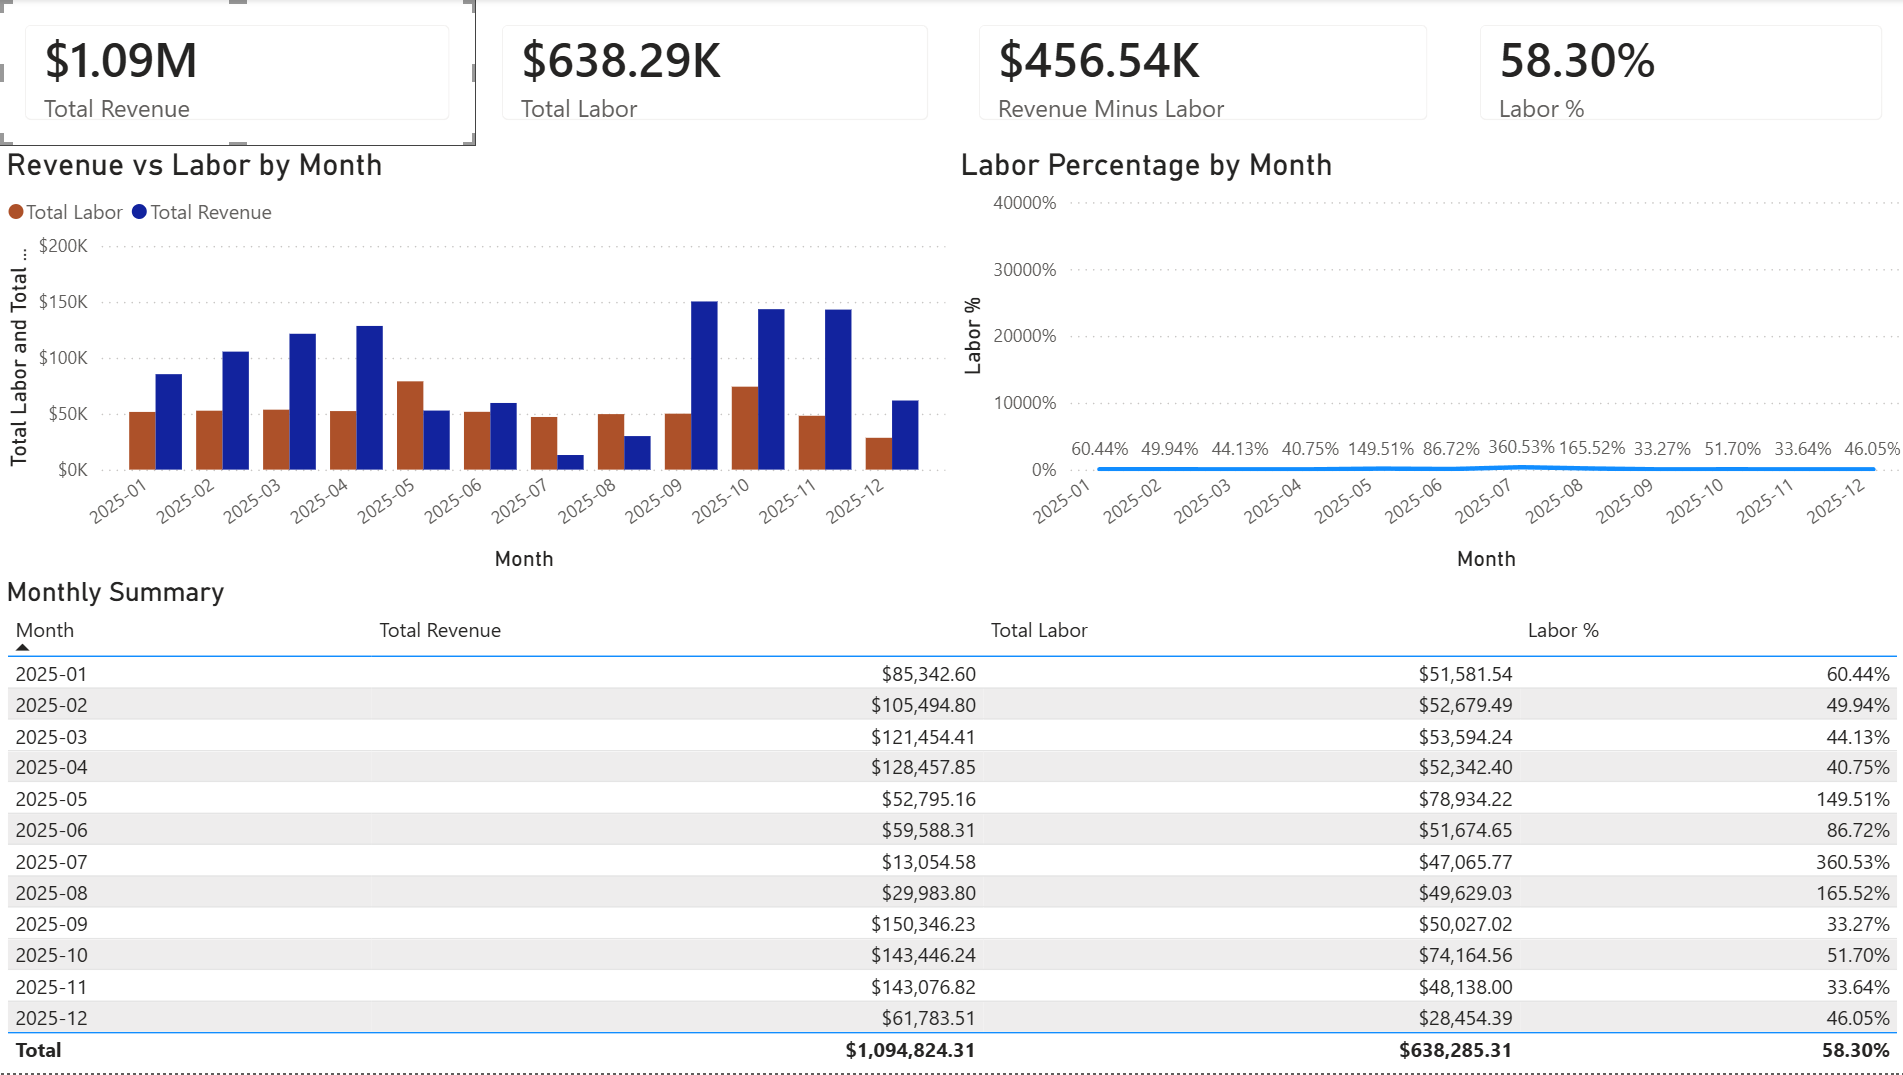

The page's visual inventory and layout, read from the dashboard file:
{"tool":"powerbi","page":{"name":"Page 1","canvas":[1280,720],"ordinal":0},"visuals":[{"type":"cardVisual","fields":{"Data":["Revenue_Raw.Total Revenue"]},"box":[0,0,319.8,98.6],"z":0},{"type":"cardVisual","fields":{"Data":["Labor_Clean.Total Labor"]},"box":[319.8,0,320.8,98.6],"z":1000},{"type":"cardVisual","fields":{"Data":["Revenue_Raw.Revenue Minus Labor"]},"box":[639.7,0,335.9,98.6],"z":2000},{"type":"cardVisual","fields":{"Data":["Labor_Clean.Labor %"]},"box":[975.6,0,304.7,98.6],"z":3000},{"type":"clusteredColumnChart","title":"Revenue vs Labor by Month","fields":{"Y":["Labor_Clean.Total Labor","Revenue_Raw.Total Revenue"],"Category":["Month-Dim.Month"]},"box":[0,98.6,639.7,288.7],"z":4000},{"type":"lineChart","title":"Labor Percentage by Month","fields":{"Category":["MonthDim.Month"],"Y":["Labor_Clean.Labor %"]},"box":[639.7,98.6,640.7,288.7],"z":5000},{"type":"tableEx","title":"Monthly Summary","fields":{"Values":["MonthDim.Month","Revenue_Raw.Total Revenue","Labor_Clean.Total Labor","Labor_Clean.Labor %"]},"box":[0,387.2,1280.3,332.9],"z":6000}]}

Visuals, with their boxes in screenshot pixels (x1, y1, x2, y2), scaled from the page's 1280x720 canvas onto the 1903x1075 screenshot:
cardVisual - Revenue_Raw.Total Revenue: box=[0, 0, 475, 147]
cardVisual - Labor_Clean.Total Labor: box=[475, 0, 952, 147]
cardVisual - Revenue_Raw.Revenue Minus Labor: box=[951, 0, 1450, 147]
cardVisual - Labor_Clean.Labor %: box=[1450, 0, 1902, 147]
"Revenue vs Labor by Month" clusteredColumnChart: box=[0, 147, 951, 578]
"Labor Percentage by Month" lineChart: box=[951, 147, 1902, 578]
"Monthly Summary" tableEx: box=[0, 578, 1902, 1074]
